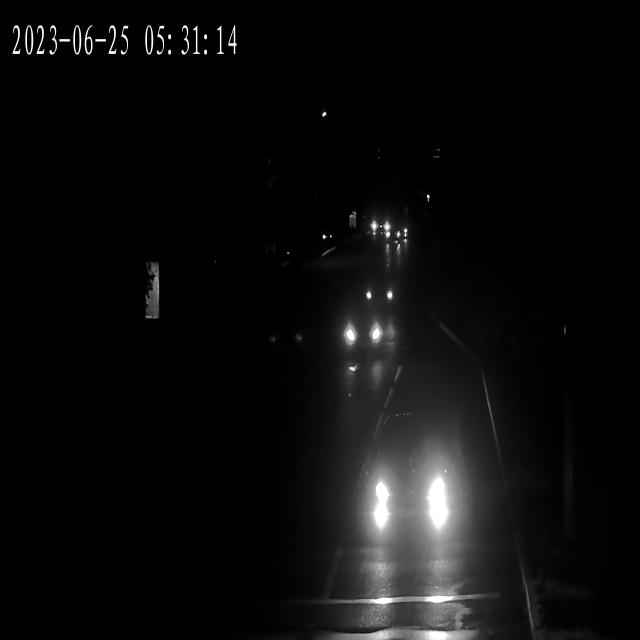Car: (366, 411, 453, 563), (338, 300, 386, 370), (364, 266, 396, 310), (371, 208, 390, 238), (387, 222, 405, 252)
